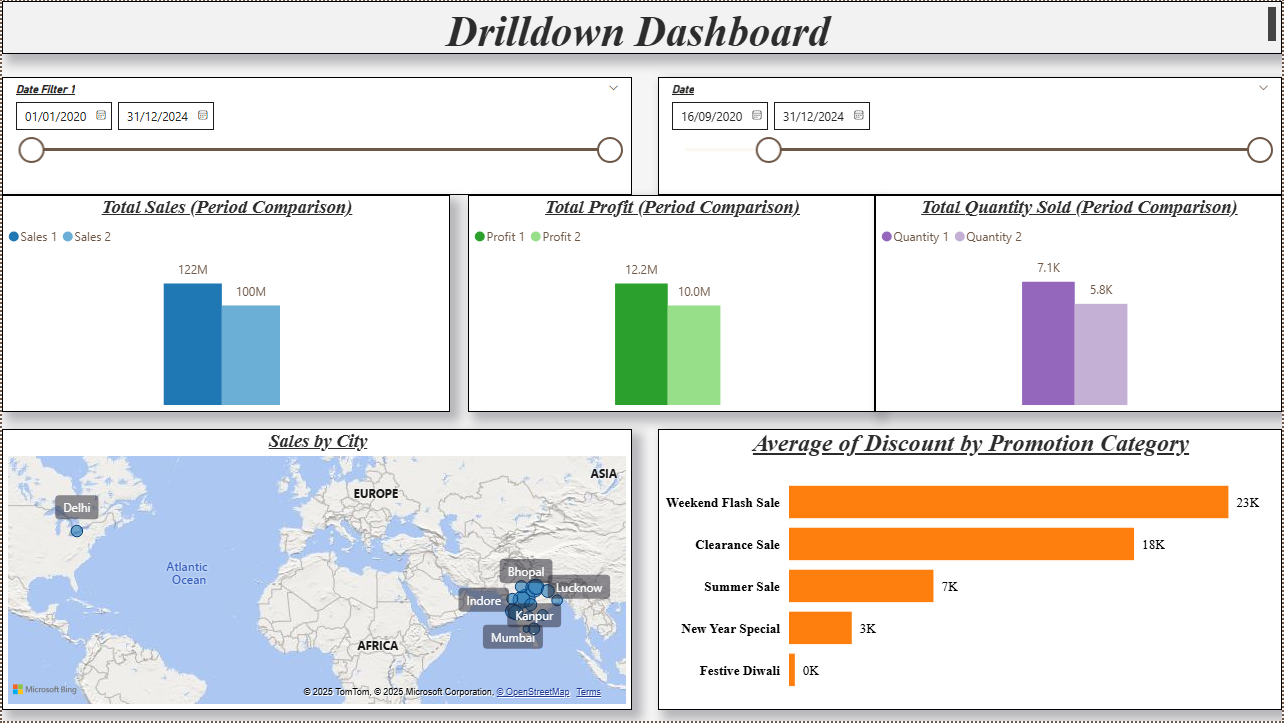

This screenshot's page, from the dashboard's own definition file:
{"tool":"powerbi","page":{"name":"Drilldown","canvas":[1280,720],"ordinal":1},"visuals":[{"type":"slicer","fields":{"Values":["Date Table 1.Date"]},"box":[0,76.2,630,117.5],"z":0},{"type":"slicer","fields":{"Values":["Date Table 2.Date"]},"box":[656.2,76.2,623.8,117.5],"z":1000},{"type":"clusteredColumnChart","title":"Total Sales (Period Comparison)","fields":{"Y":["Sum(Fact Table.Net Sales  )","Date Table 1.Sum of Net Sales"]},"box":[0,193.8,447.5,217.5],"z":2000},{"type":"clusteredColumnChart","title":"Total Profit (Period Comparison)","fields":{"Y":["Sum(Fact Table.Profit)","Measure Table.Total Profit"]},"box":[466.2,193.8,406.2,217.5],"z":3000},{"type":"clusteredColumnChart","title":"Total Quantity Sold (Period Comparison)","fields":{"Y":["Sum(Fact Table.Units Sold)","Measure Table.Total Quantity"]},"box":[872.5,193.8,407.5,217.5],"z":4000},{"type":"textbox","box":[0,0,1280,52.5],"z":4002},{"type":"map","title":"Sales by City","fields":{"Category":["Dim Customers.City"],"Size":["Sum(Fact Table.Net Sales  )"]},"box":[0,427.5,630,281.2],"z":4003},{"type":"barChart","title":"Average of Discount by Promotion Category","fields":{"Y":["Avg(Fact Table.Discount Value)"],"Category":["Dim Promotion.Promotion Name"]},"box":[656.2,427.5,623.8,281.2],"z":4004}]}

Visuals, with their boxes in screenshot pixels (x1, y1, x2, y2), scaled from the page's 1280x720 canvas onto the 1284x723 screenshot:
slicer - Date Table 1.Date: <region>0, 77, 632, 195</region>
slicer - Date Table 2.Date: <region>658, 77, 1283, 195</region>
"Total Sales (Period Comparison)" clusteredColumnChart: <region>0, 195, 449, 413</region>
"Total Profit (Period Comparison)" clusteredColumnChart: <region>468, 195, 875, 413</region>
"Total Quantity Sold (Period Comparison)" clusteredColumnChart: <region>875, 195, 1283, 413</region>
textbox: <region>0, 0, 1283, 53</region>
"Sales by City" map: <region>0, 429, 632, 712</region>
"Average of Discount by Promotion Category" barChart: <region>658, 429, 1283, 712</region>
